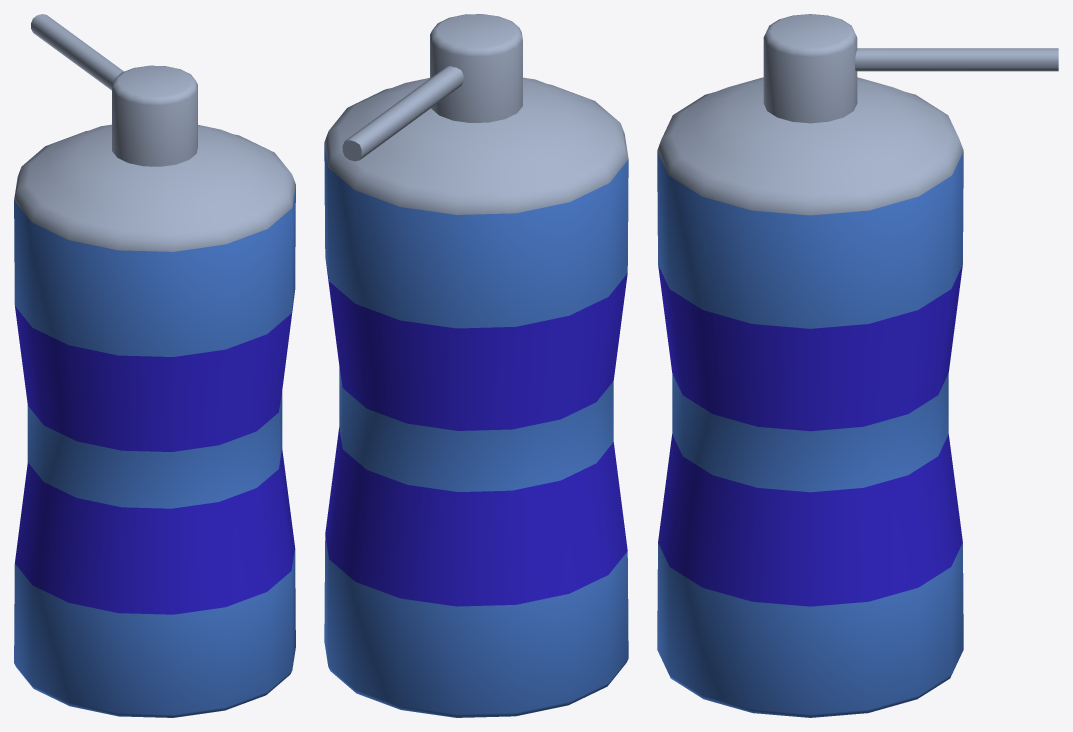
File: spray.fbx
3 views of the same model, side by side, from view 1: azimuth 30°, elevation 25°; view 2: azimuth 150°, elevation 25°; view 3: azimuth 270°, elevation 25° (orthographic). The views are drawn at different scales.
Visible parts, largest first — view 1: Cylinder; view 2: Cylinder; view 3: Cylinder.
Boxes of the visible parts, left/top/right/bottom form: Cylinder: left=14, top=14, right=295, bottom=717; Cylinder: left=324, top=14, right=628, bottom=717; Cylinder: left=657, top=14, right=1058, bottom=717.
Bounding box in the file's own units: 0.4765 × 1.07 × 0.6242.
